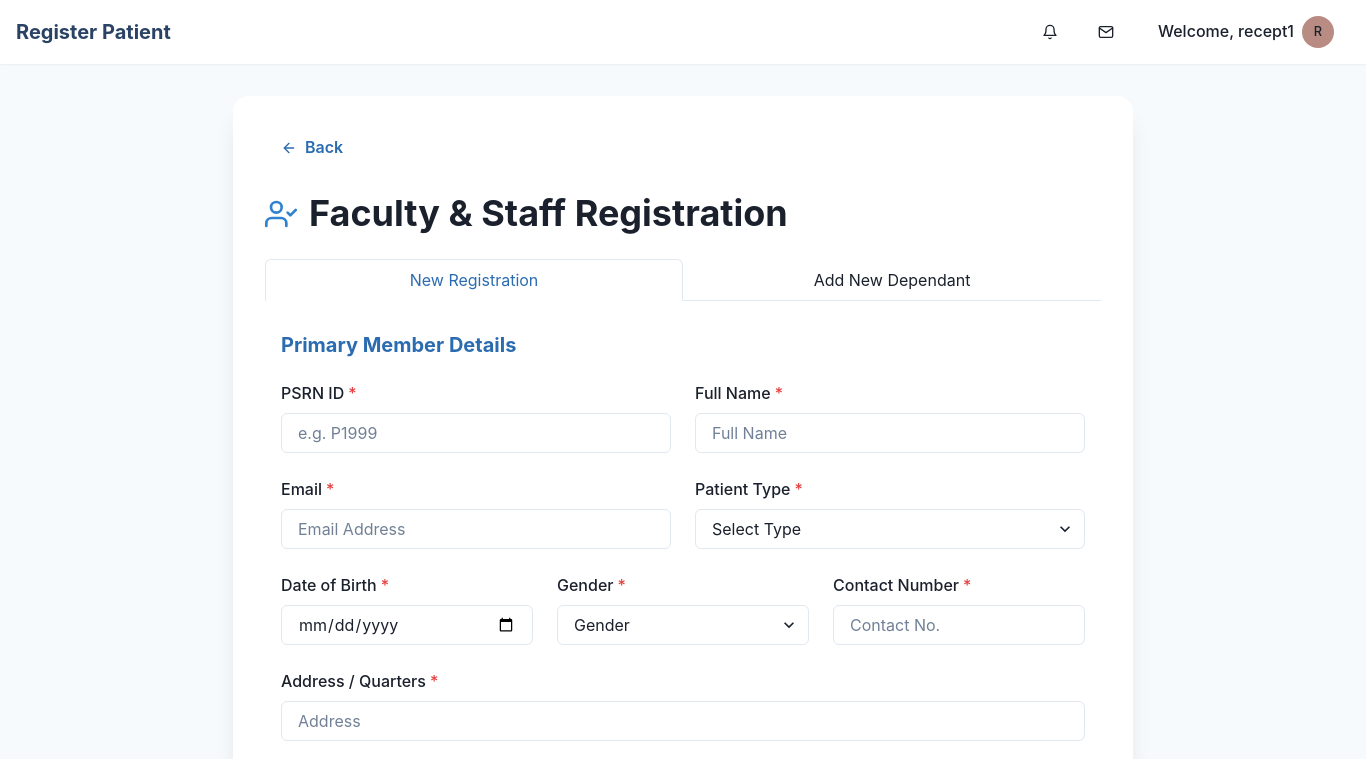
Test: ReceptionistStaffRegistration Component › verifies PSRN in Add New Dependant tab and shows dependants
The width and height of the screenshot is (1366, 759).
Click the tab "Add New Dependant": point(892, 280) left=683, top=259, right=1101, bottom=301
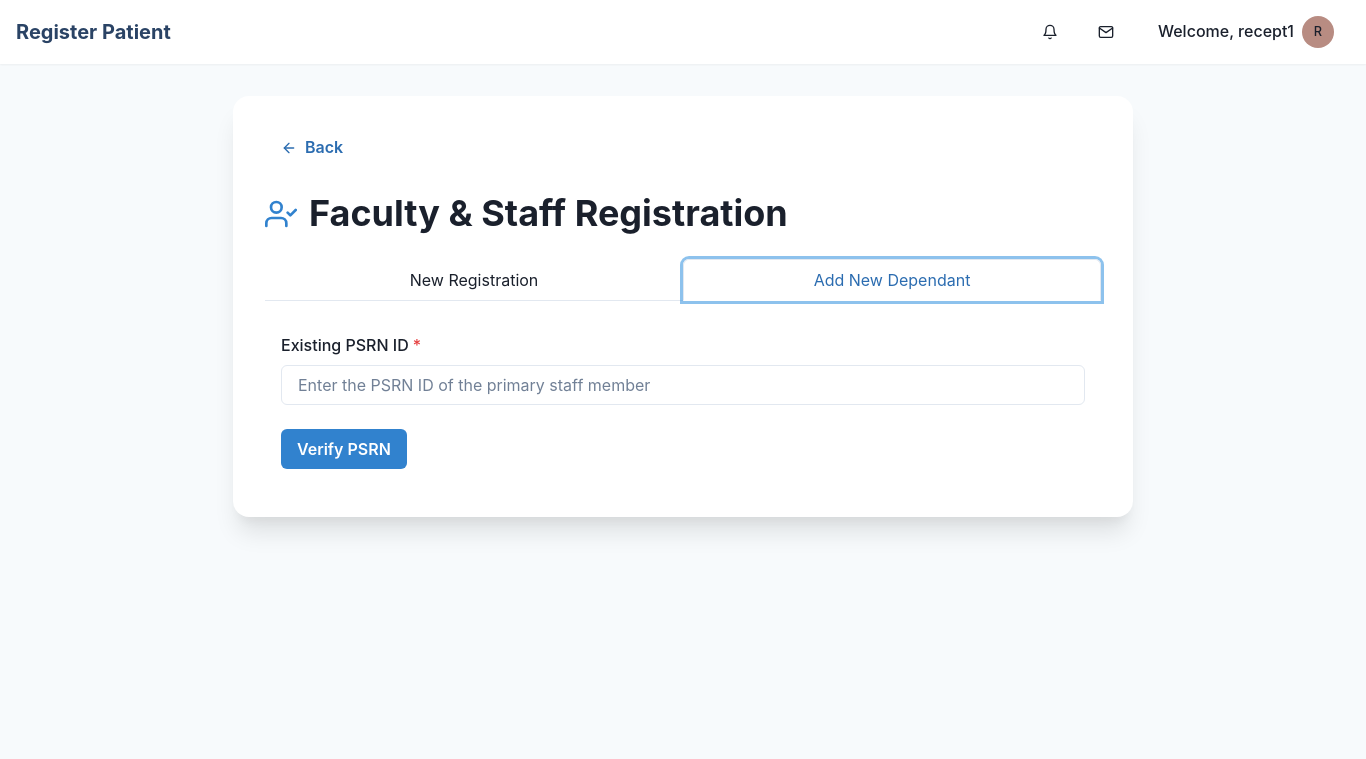
In the field labelled "Existing PSRN ID*": point(683, 385) left=281, top=365, right=1085, bottom=405, type "P1234"
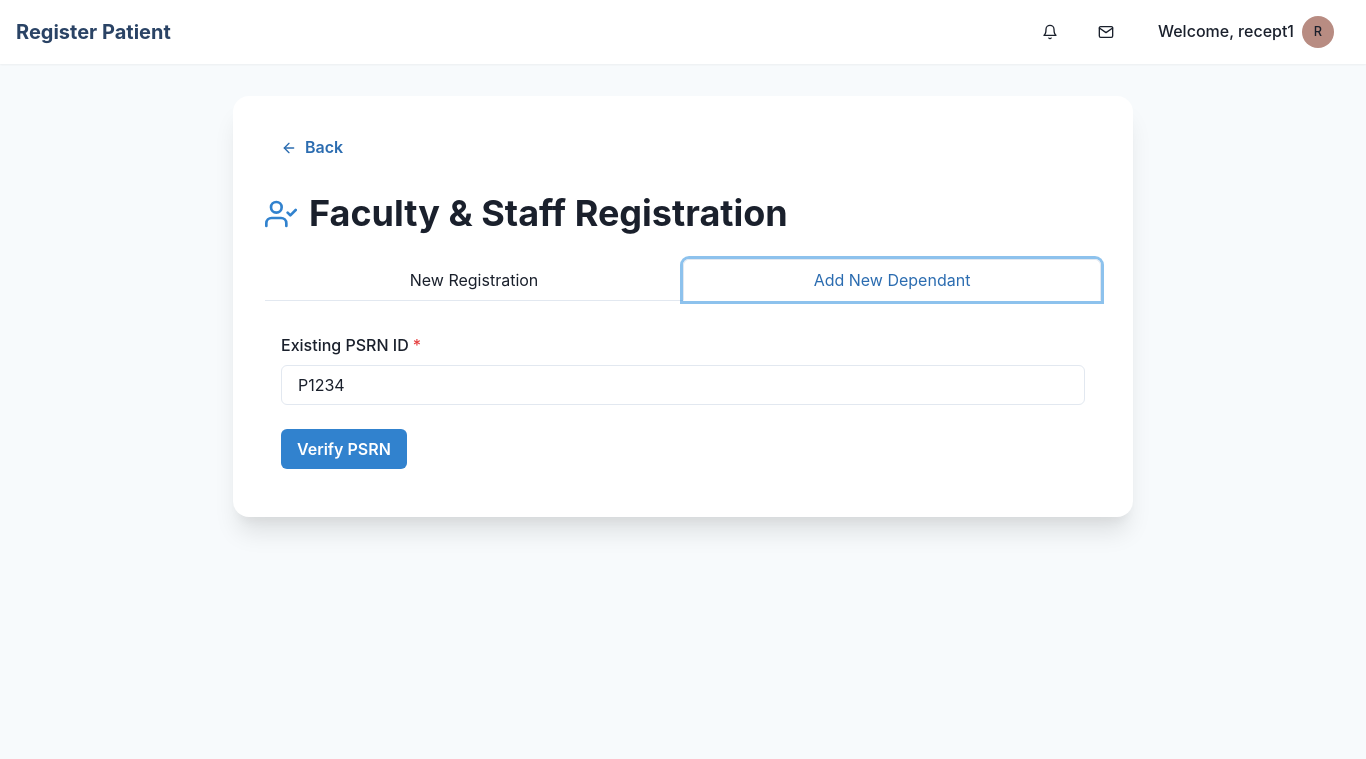
Click the button "Verify PSRN": point(344, 449) left=281, top=429, right=407, bottom=469
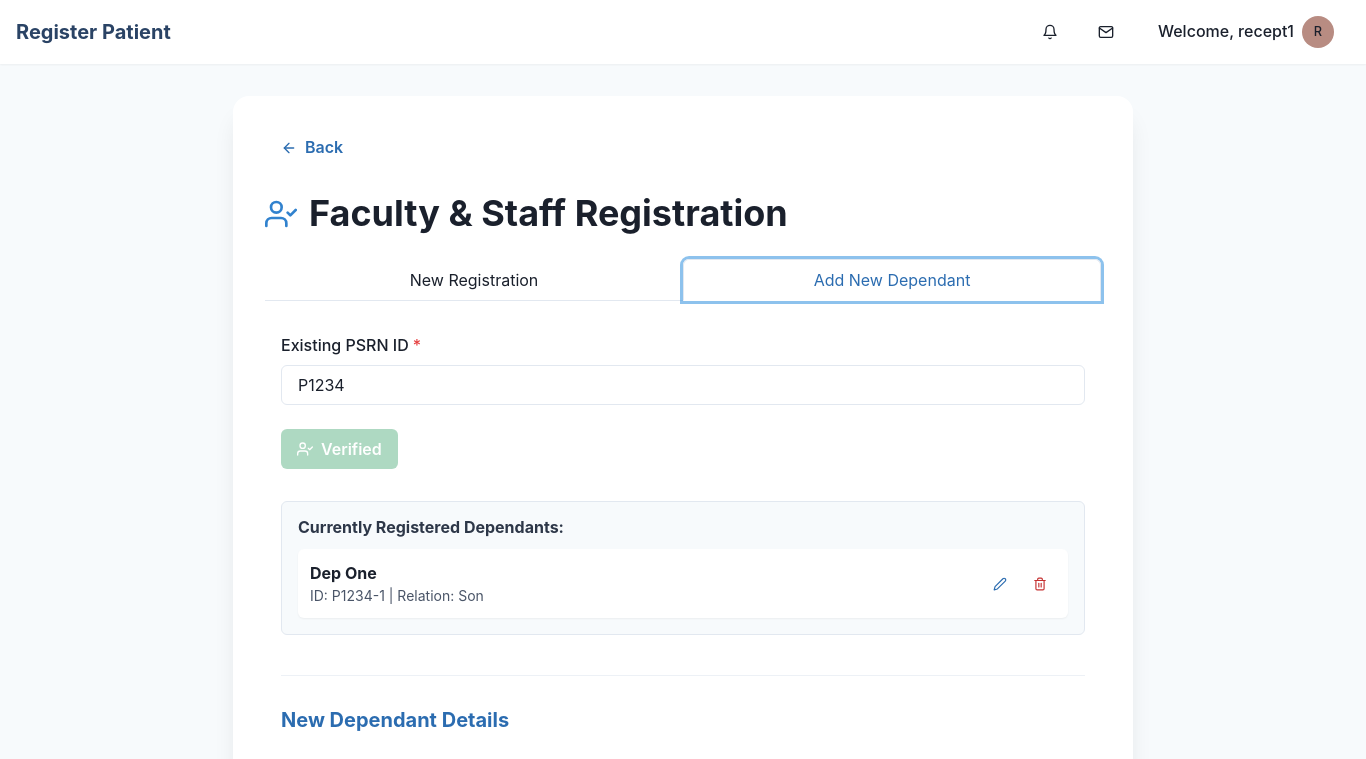
Result: the text "Dep One" is shown at left=310, top=563, right=377, bottom=583
Result: the text "ID: P1234-1 | Relation: Son" is shown at left=310, top=585, right=484, bottom=606
